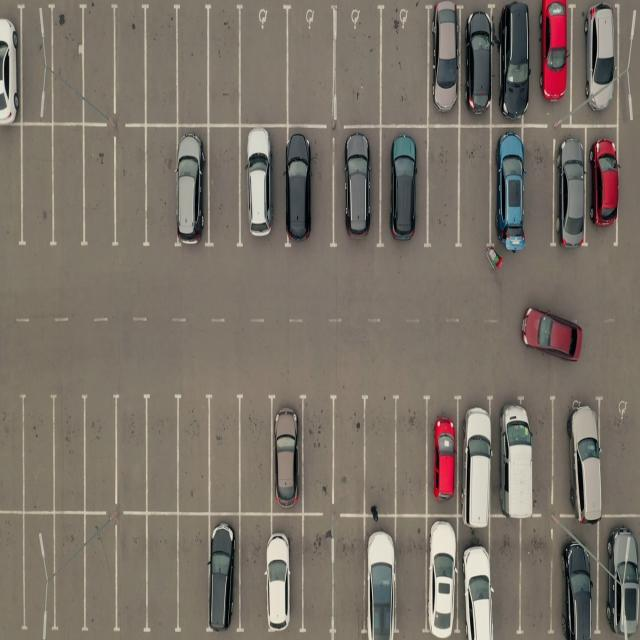space-empty: (238, 7, 290, 126), (378, 5, 426, 127), (288, 10, 338, 126), (332, 8, 380, 126), (15, 125, 54, 250), (46, 516, 88, 632), (47, 5, 87, 124), (142, 3, 180, 126), (50, 129, 88, 250), (177, 3, 214, 126), (79, 398, 118, 514), (78, 127, 115, 249), (80, 514, 118, 632), (206, 5, 243, 126), (114, 3, 151, 124), (78, 3, 115, 123), (144, 395, 182, 511), (176, 398, 214, 514), (458, 128, 494, 250), (115, 395, 153, 510), (17, 398, 54, 514), (205, 130, 241, 249), (142, 130, 178, 249), (51, 399, 88, 514), (604, 398, 640, 516), (113, 131, 149, 249), (18, 514, 54, 632), (395, 517, 430, 638), (239, 396, 276, 510), (394, 397, 430, 514), (298, 514, 334, 631), (143, 516, 179, 632), (114, 516, 150, 632), (334, 517, 369, 636), (206, 396, 242, 511), (332, 397, 368, 512), (424, 125, 458, 245), (488, 518, 522, 638), (361, 398, 396, 514), (521, 520, 556, 636), (299, 396, 334, 511), (178, 515, 212, 633), (16, 5, 50, 122), (237, 514, 270, 634), (525, 126, 557, 246), (0, 513, 25, 634), (0, 390, 25, 510), (0, 129, 23, 251)
space-occupied: (489, 127, 548, 250), (493, 397, 544, 520), (555, 393, 602, 518), (284, 129, 332, 249), (573, 0, 619, 121), (382, 124, 429, 242), (333, 129, 380, 247), (241, 128, 286, 248), (553, 528, 596, 638), (534, 0, 573, 121), (460, 396, 498, 516), (603, 518, 640, 637), (424, 517, 460, 637), (426, 7, 462, 126), (460, 516, 495, 638), (424, 397, 460, 515), (493, 4, 529, 122), (267, 512, 301, 633), (177, 130, 211, 250), (270, 396, 305, 510), (554, 130, 588, 246), (464, 7, 497, 124), (364, 517, 396, 637), (208, 515, 238, 633), (586, 128, 616, 242), (0, 6, 21, 125)
